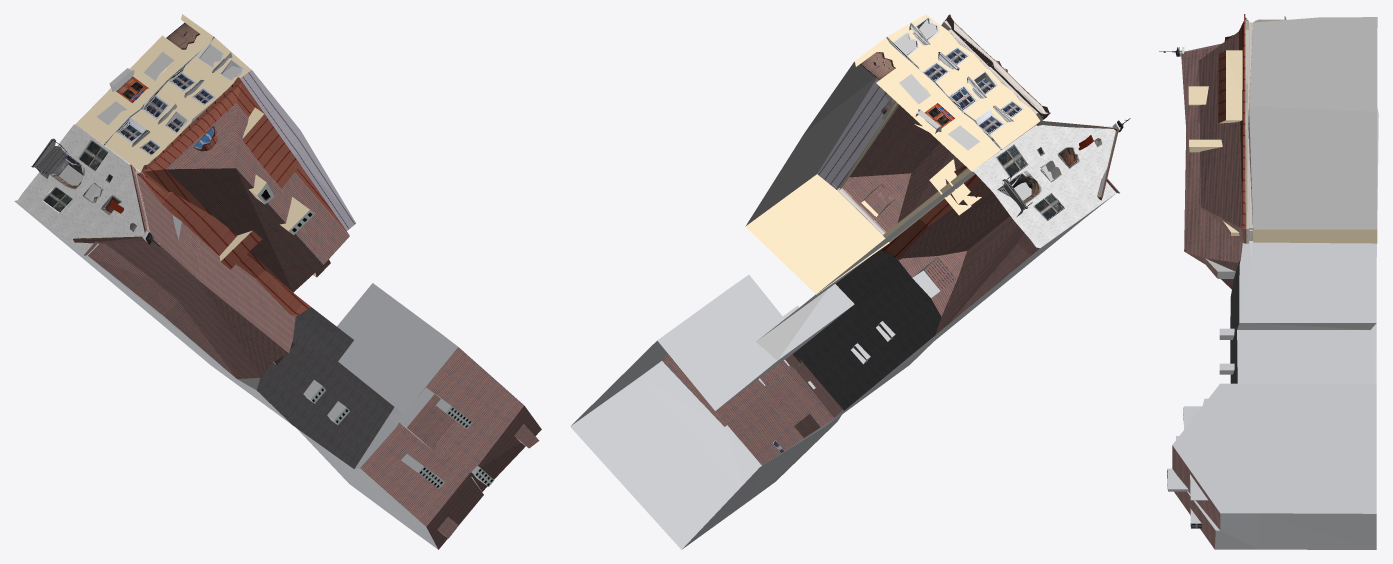
File: Viru_2-origo.obj
The picture shows the model from 3 angles, left to right: view 1: azimuth 30°, elevation 25°; view 2: azimuth 150°, elevation 25°; view 3: azimuth 270°, elevation 25°; orthographic projection. The views are drawn at different scales.
Visible parts, largest first — view 1: Viru_2; view 2: Viru_2; view 3: Viru_2.
Part boxes in pixels (<box>): Viru_2: <box>14,14,541,549</box>; Viru_2: <box>570,14,1130,549</box>; Viru_2: <box>1159,14,1378,549</box>.
Size of the model in its own units: 43.38 by 47 by 20.36.
